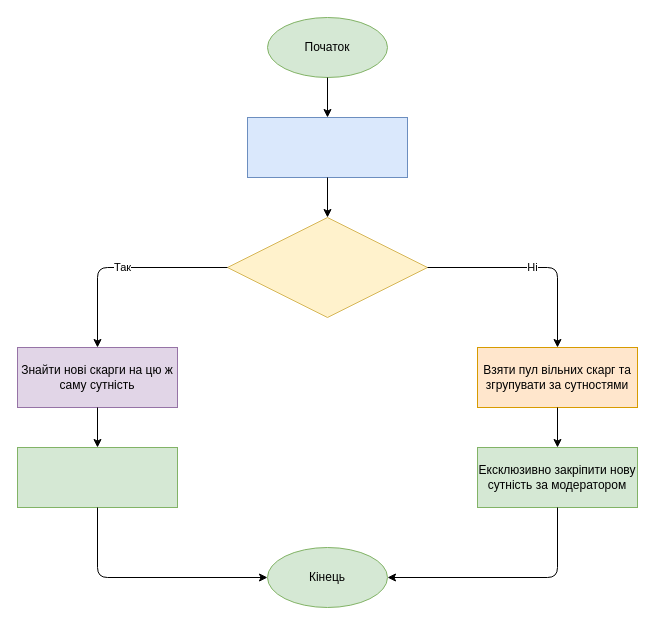
This 655x625 diagram has some shape labels left out. The box of each missing label's shape, as (x1, y1, x2, y2) in pixels:
Модератор відкриває панель завдань: (246, 116, 408, 178)
Модератор має незавершені сутності?: (226, 216, 428, 318)
Призначити нові скарги поточному модератору: (16, 446, 178, 508)
